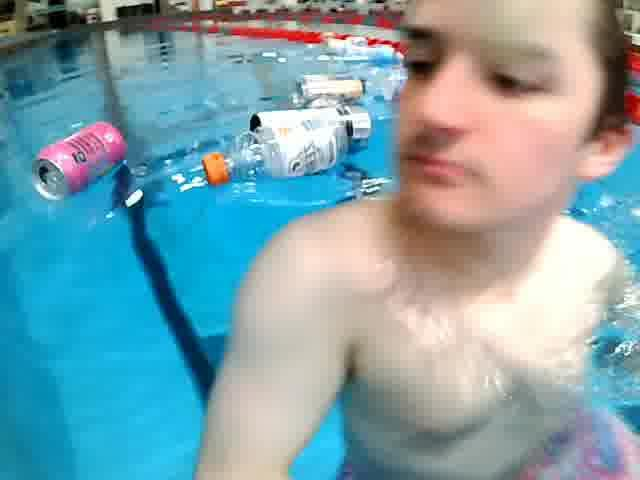Bottle: (199, 114, 349, 193)
Can: (25, 118, 134, 207), (246, 100, 380, 154), (289, 70, 371, 111)
